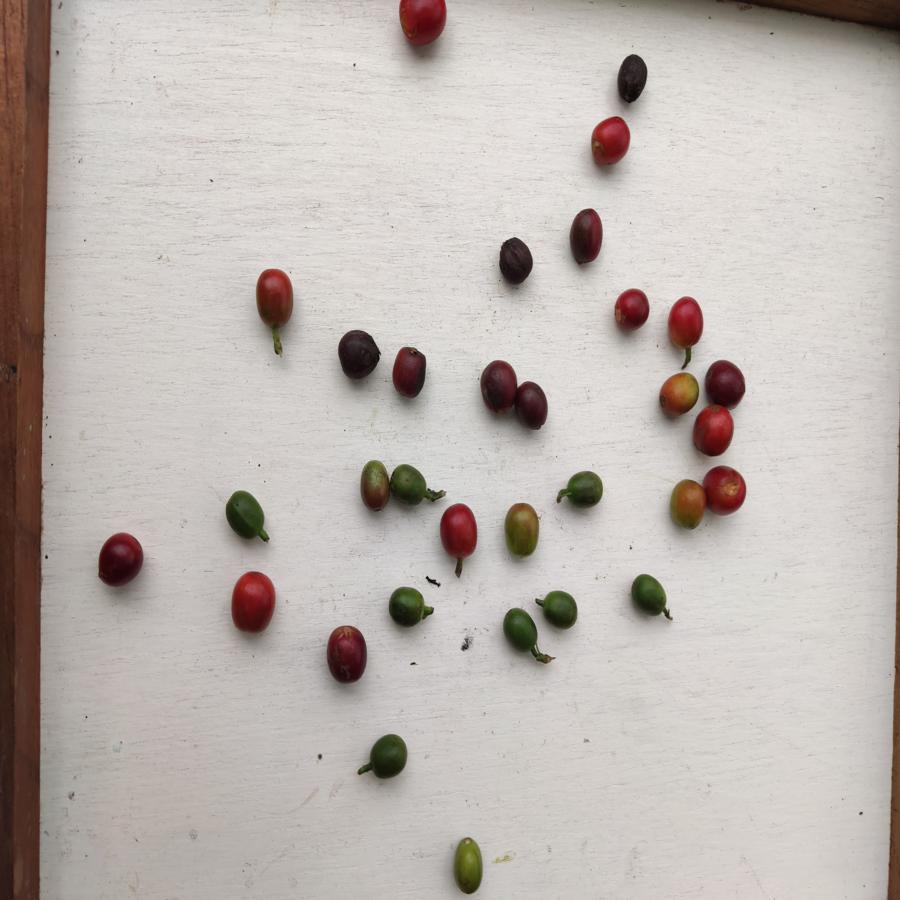Inmaduro: (221, 487, 270, 538), (630, 569, 674, 618), (367, 732, 409, 780), (389, 464, 432, 508), (502, 606, 541, 652), (542, 587, 579, 633), (386, 586, 427, 627), (565, 470, 609, 508)
Maduro: (227, 568, 277, 636), (250, 267, 300, 331), (691, 406, 739, 459), (398, 1, 450, 48), (440, 501, 481, 558), (588, 116, 632, 168), (665, 297, 707, 348), (705, 465, 747, 515), (611, 288, 650, 330)
Pinton: (658, 369, 702, 422), (451, 835, 488, 897), (504, 502, 539, 561), (672, 477, 707, 530), (357, 462, 390, 515)
Sobremaduro: (95, 531, 145, 587), (326, 625, 369, 684), (339, 328, 382, 380), (391, 345, 431, 400), (479, 358, 520, 410), (704, 358, 747, 406), (568, 207, 604, 264), (513, 378, 553, 429), (498, 235, 535, 283), (617, 53, 650, 104)
